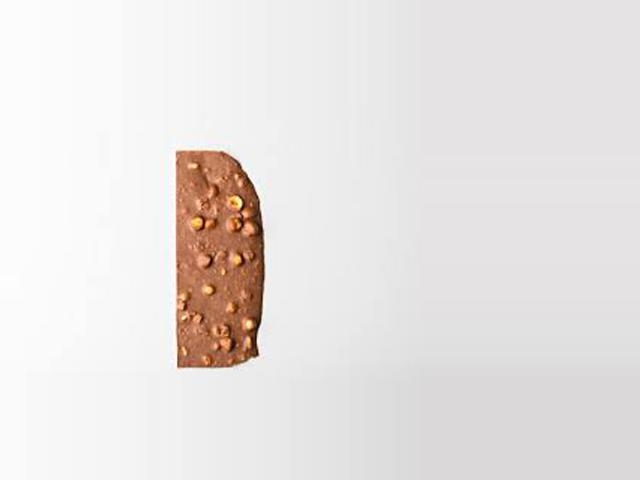chocolate: (165, 149, 279, 366)
